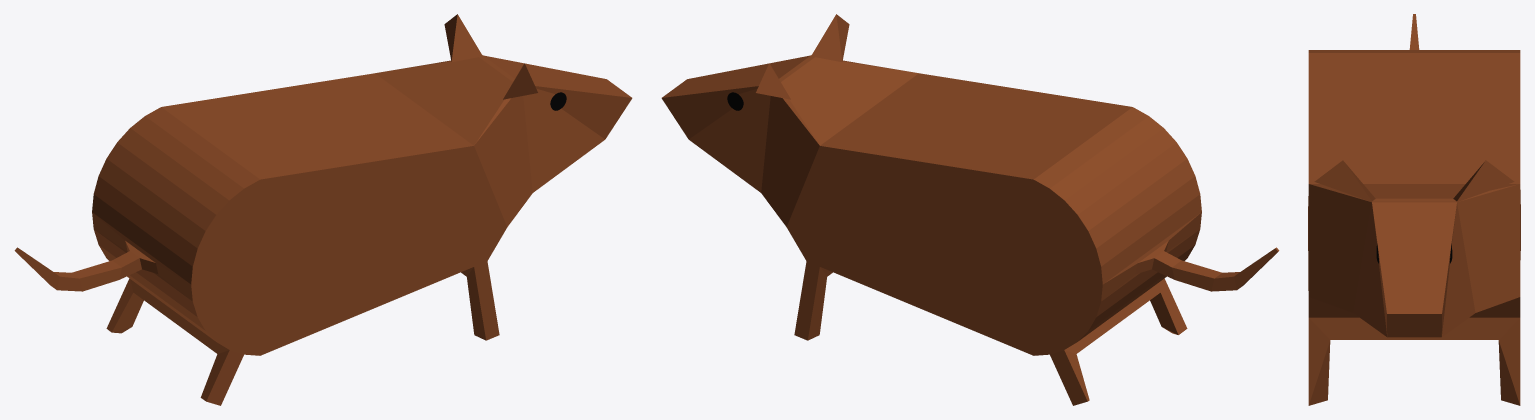
The model's file is Mouse.fbx.
The picture shows the model from 3 angles, left to right: view 1: azimuth 30°, elevation 25°; view 2: azimuth 150°, elevation 25°; view 3: azimuth 270°, elevation 25°; orthographic projection. The views are drawn at different scales.
Visible parts, largest first — view 1: Cylinder; view 2: Cylinder; view 3: Cylinder.
Boxes of the visible parts, <box> form: Cylinder: <box>14,14,632,405</box>; Cylinder: <box>661,14,1279,405</box>; Cylinder: <box>1308,14,1520,405</box>.
Bounding box in the file's own units: 704 × 282 × 201.
